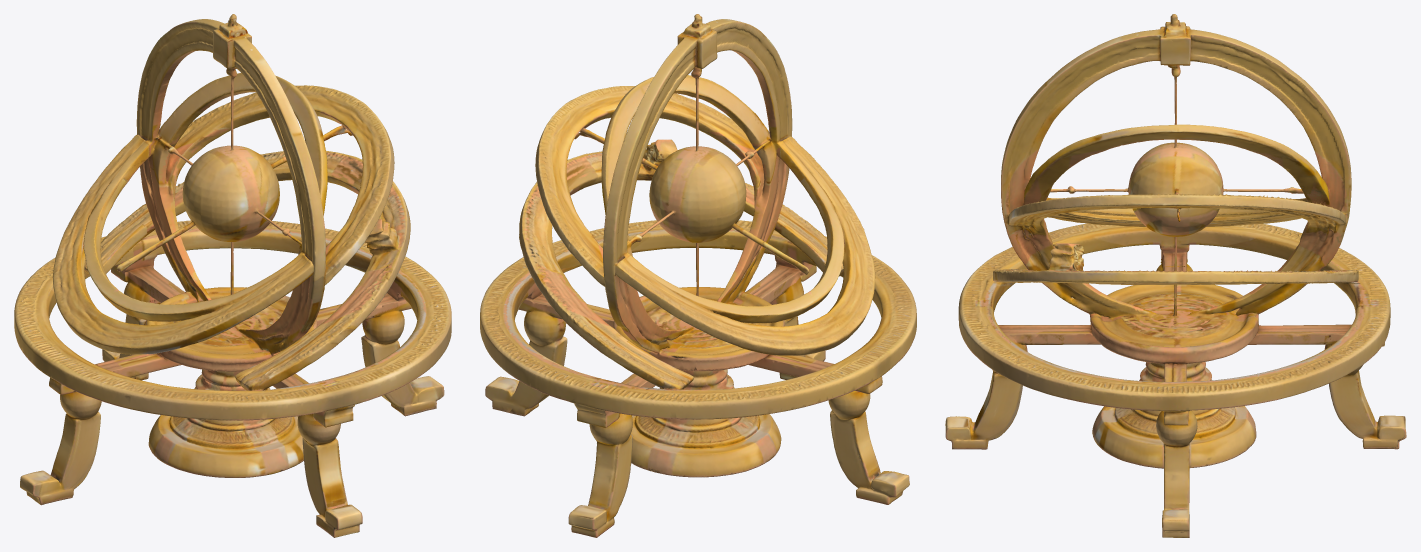
Rendered from 浑仪3D模型.glb.
3 views of the same model, side by side, from view 1: azimuth 30°, elevation 25°; view 2: azimuth 150°, elevation 25°; view 3: azimuth 270°, elevation 25° (orthographic).
Size of the model in its own units: 1.94 by 1.97 by 1.92.
1 material, 1 textured.
